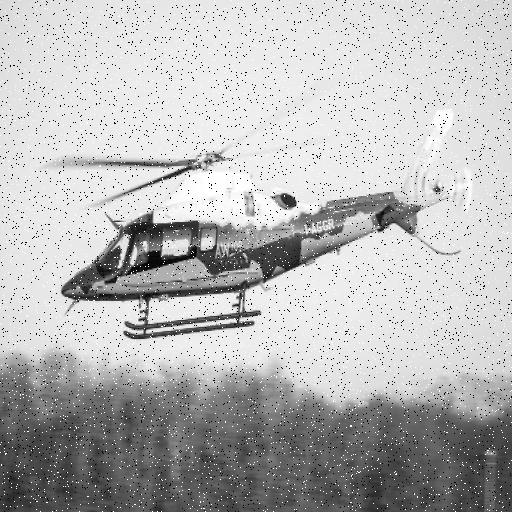helicopter: (41, 106, 476, 348)
